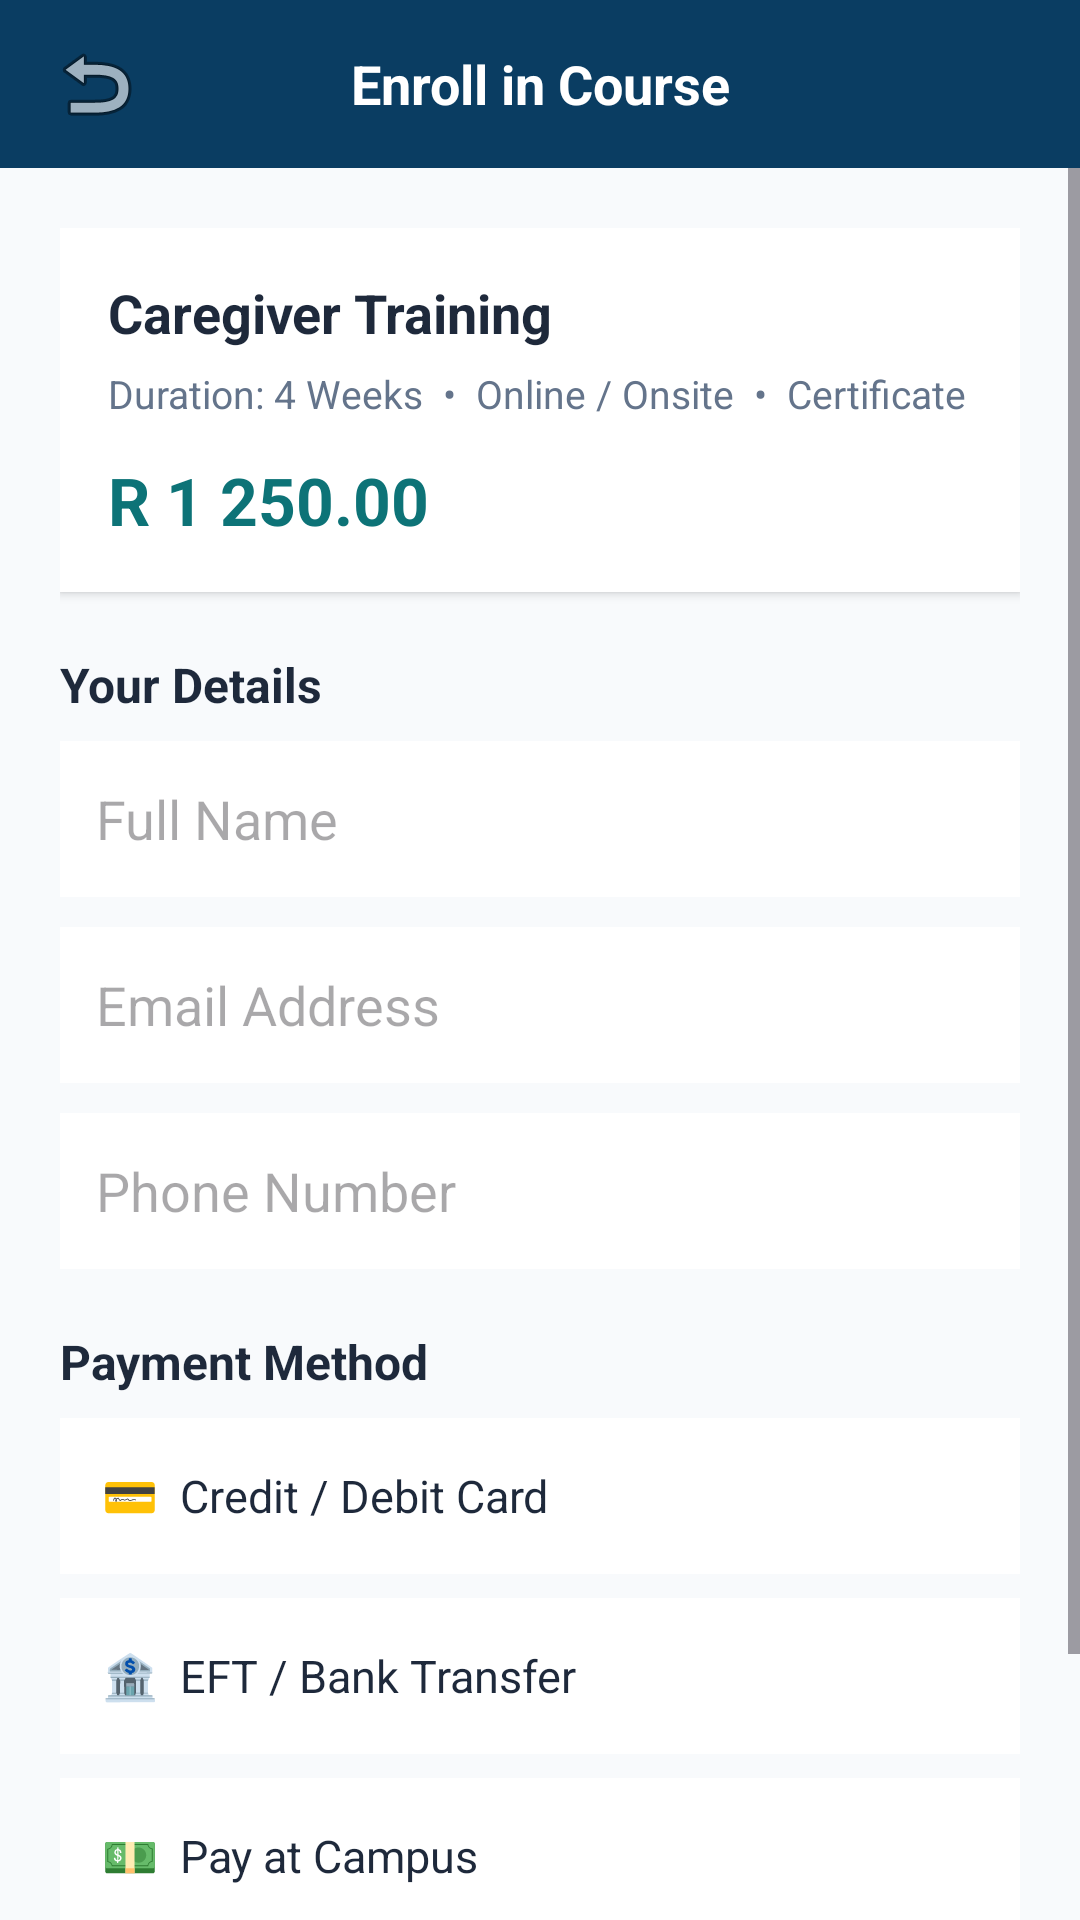

Screen size 1080w x 1920h. Icon name, then its center in pixels as [x,y]:
Back: [97,85]
